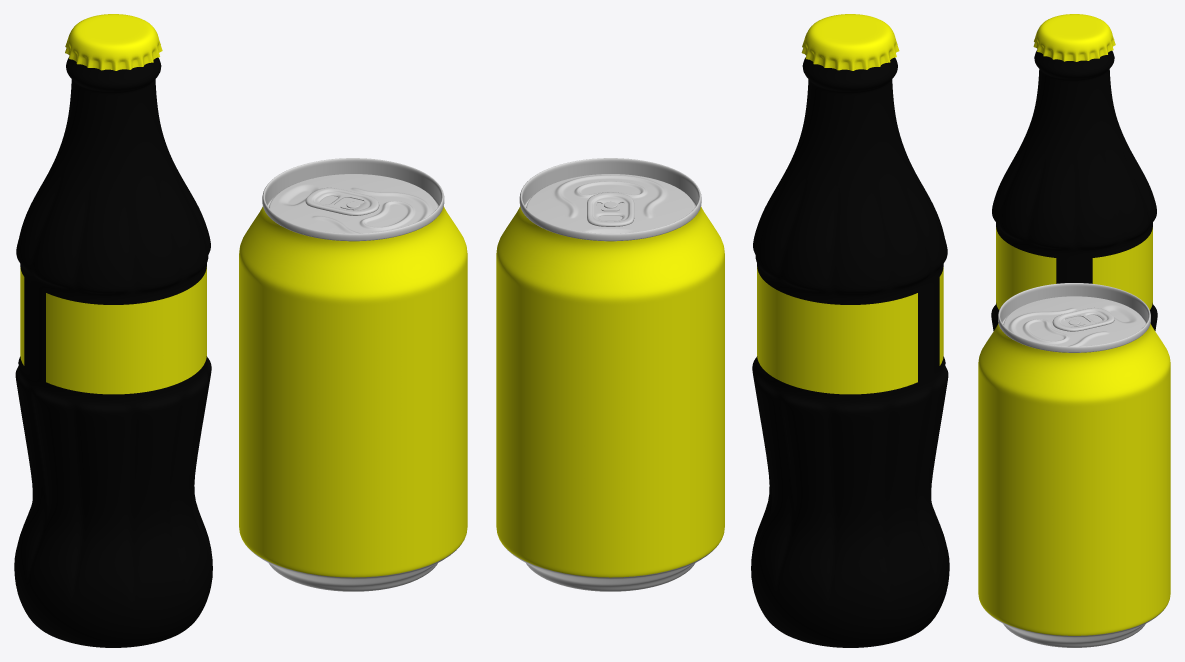
File: mpm_vol.09_p35.glb
The picture shows the model from 3 angles, left to right: view 1: azimuth 30°, elevation 25°; view 2: azimuth 150°, elevation 25°; view 3: azimuth 270°, elevation 25°; orthographic projection. The views are drawn at different scales.
Visible parts, largest first — view 1: 35 Coca-Cola bottle, 35 Coca-Cola can; view 2: 35 Coca-Cola bottle, 35 Coca-Cola can; view 3: 35 Coca-Cola can, 35 Coca-Cola bottle.
Part boxes in pixels (x1=…): 35 Coca-Cola bottle: x1=14, y1=14, x2=212, y2=647; 35 Coca-Cola can: x1=239, y1=158, x2=467, y2=591; 35 Coca-Cola bottle: x1=751, y1=14, x2=949, y2=647; 35 Coca-Cola can: x1=496, y1=158, x2=724, y2=591; 35 Coca-Cola can: x1=978, y1=283, x2=1170, y2=647; 35 Coca-Cola bottle: x1=991, y1=14, x2=1157, y2=330.
Size of the model in its own units: 0.144 by 0.1897 by 0.0671.
5 materials, 2 textured.
